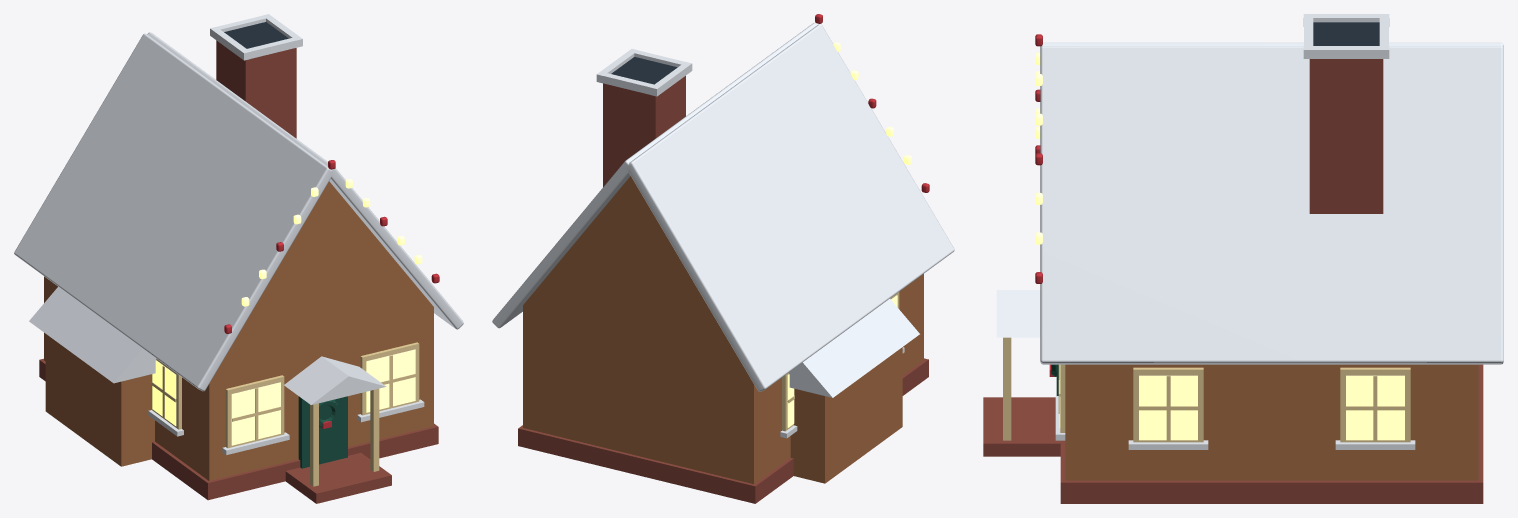
Rendered from gingersnap.glb.
The picture shows the model from 3 angles, left to right: view 1: azimuth 30°, elevation 25°; view 2: azimuth 150°, elevation 25°; view 3: azimuth 270°, elevation 25°; orthographic projection. The views are drawn at different scales.
Parts seen in each view (by area): view 1: Exterior; view 2: Exterior; view 3: Exterior.
Boxes of the visible parts, x1,y1,x2,y2 form: Exterior: [14, 14, 463, 503]; Exterior: [492, 14, 954, 503]; Exterior: [983, 14, 1503, 503].
Size of what is drawn, in the model's own units: 7.14 by 8.03 by 8.81.
